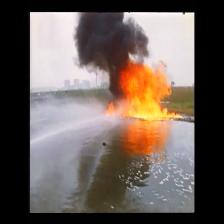fire: (107, 59, 182, 120)
